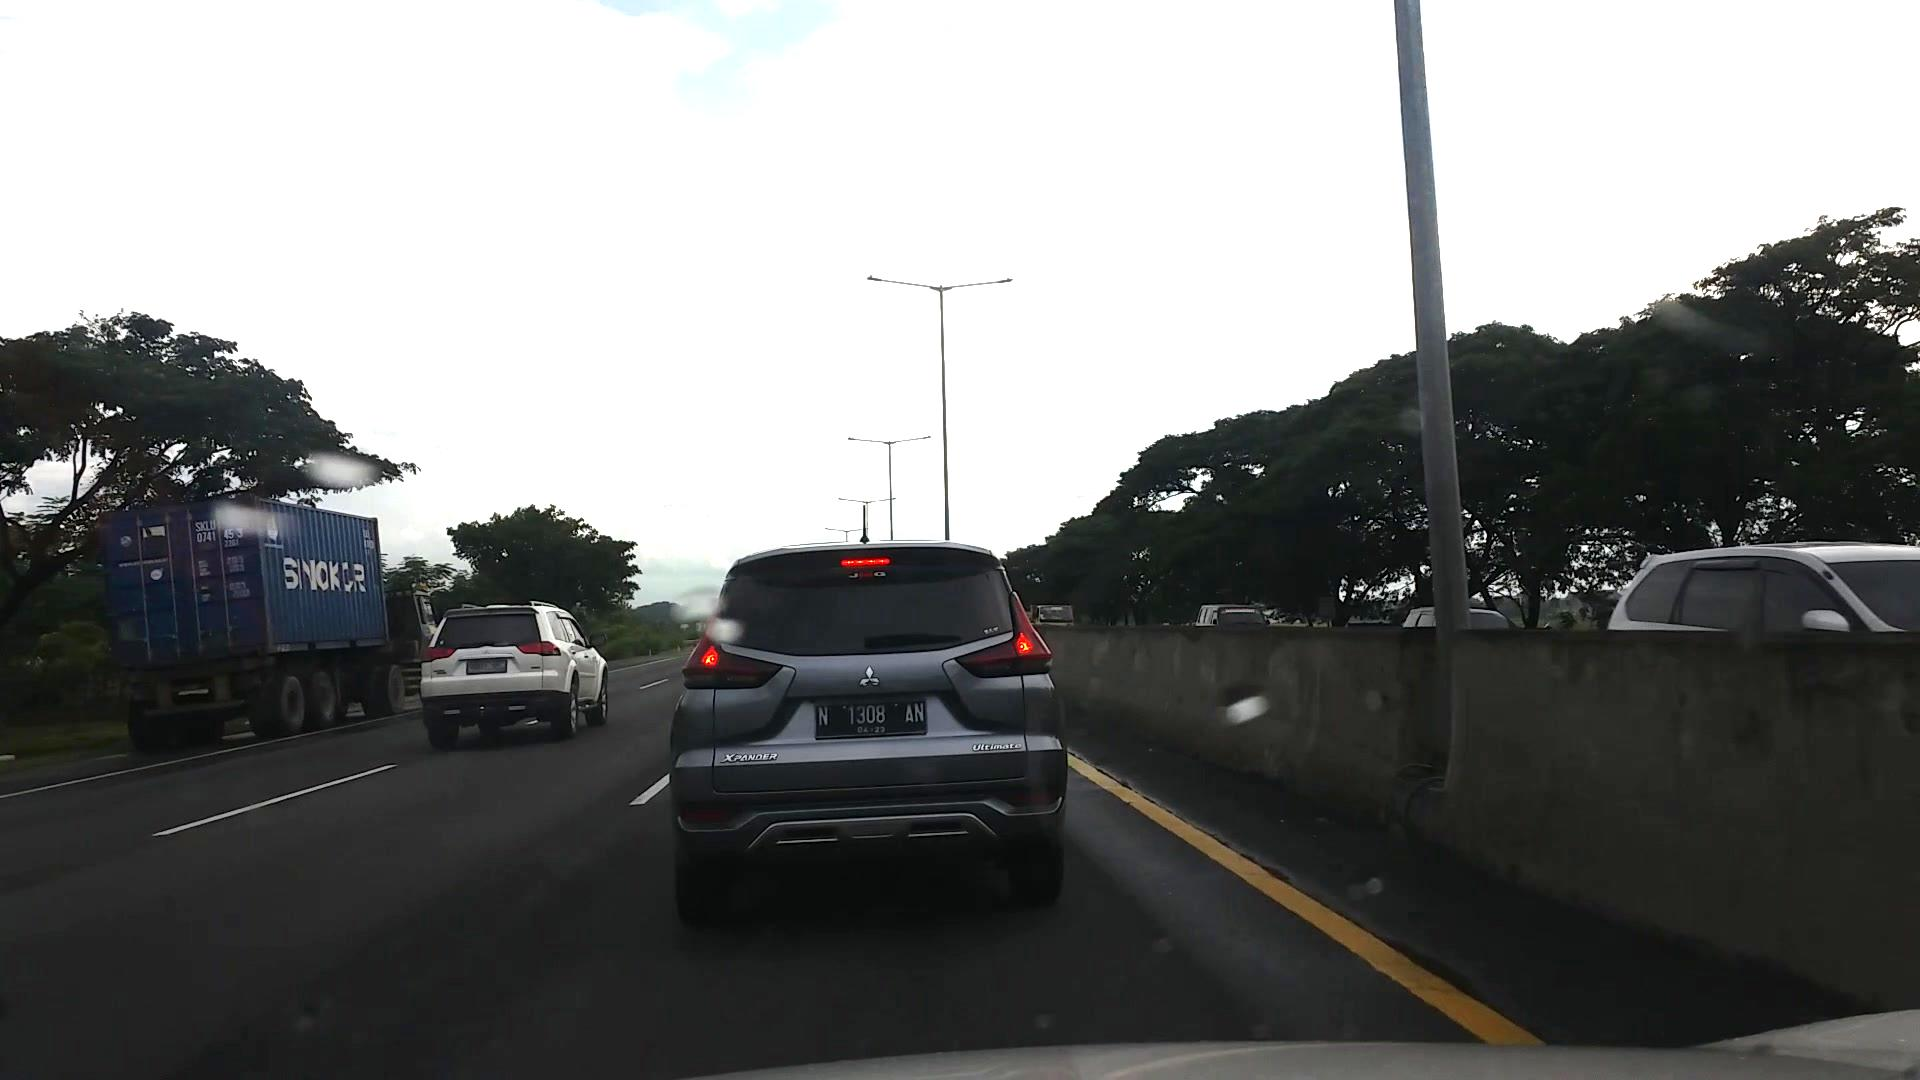plate_positive: (815, 702, 926, 738)
